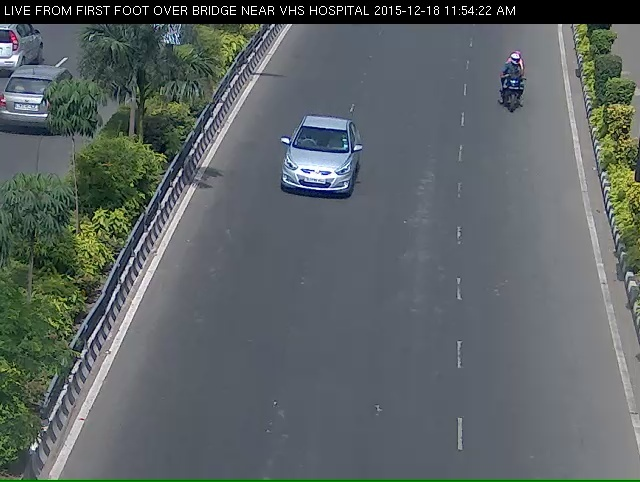Car: (262, 122, 362, 228)
Person: (485, 55, 540, 126)
